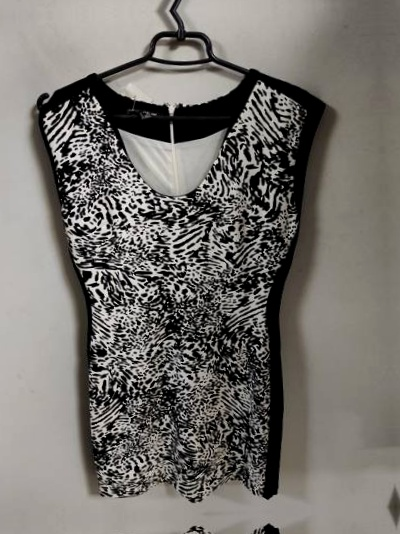Dress: (24, 33, 364, 509), (42, 520, 383, 534)
